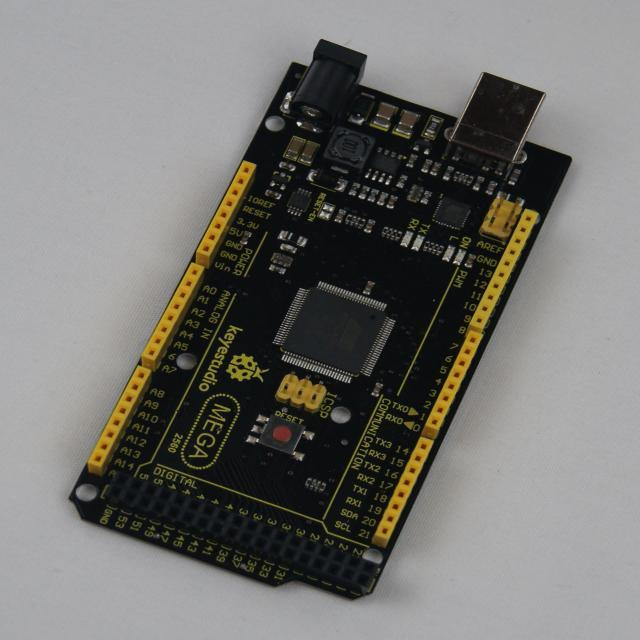Arduino Mega 2560 -Yellow-: (71, 41, 571, 599)
